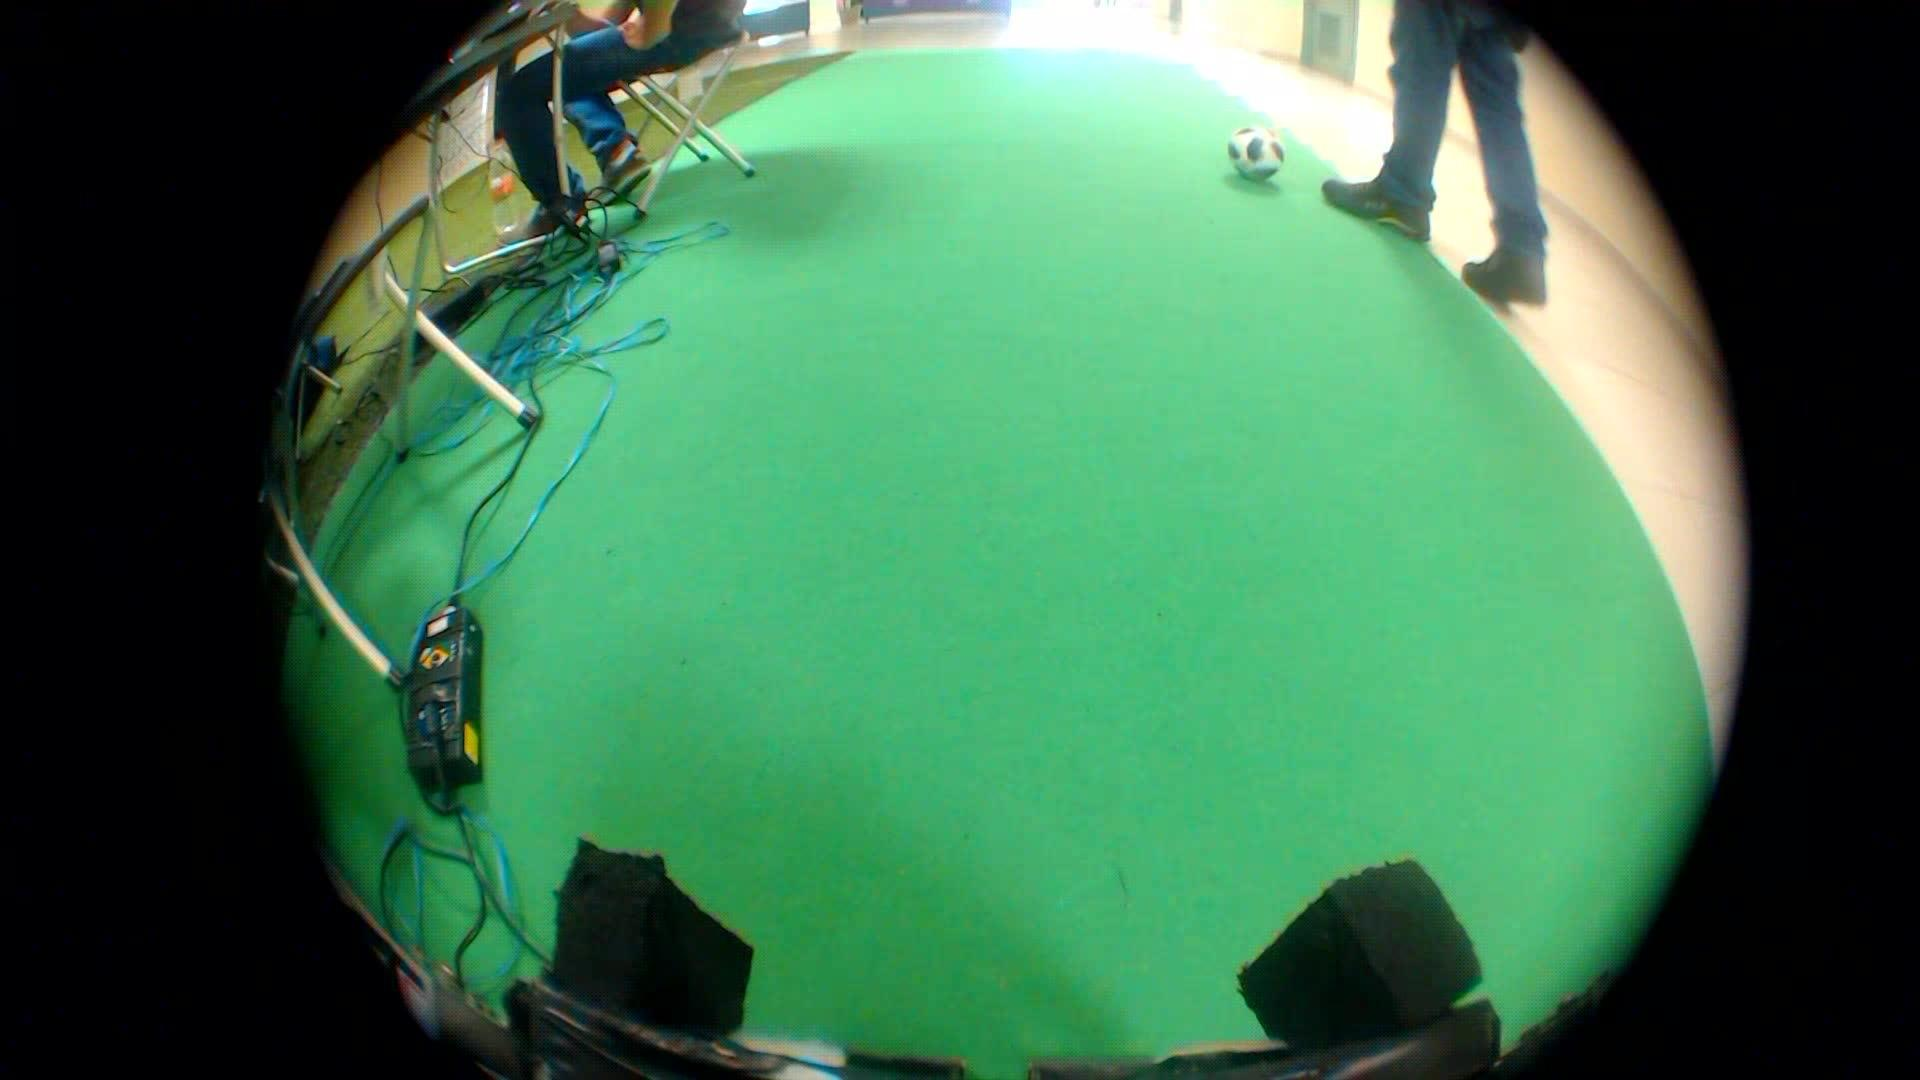ball: (1225, 115, 1296, 189)
